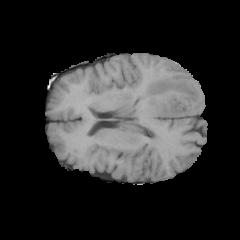glioma: (137, 74, 197, 117)
